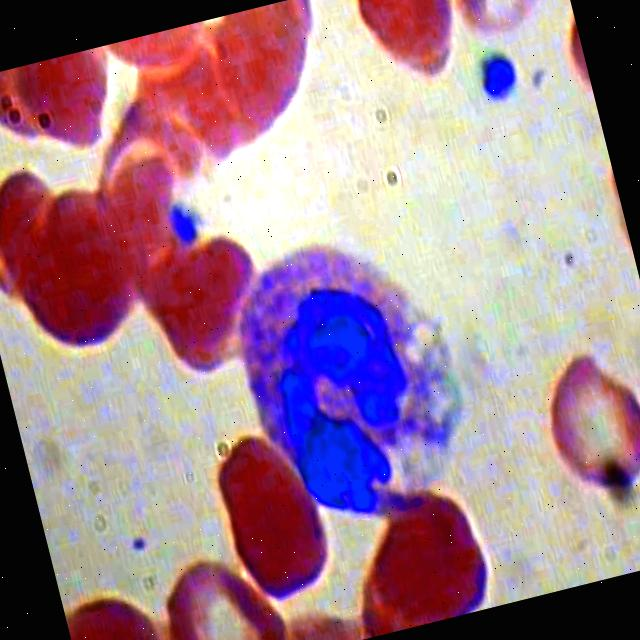Platelets: (468, 42, 532, 111), (162, 197, 208, 256)
RBC: (197, 421, 345, 612), (6, 200, 146, 361), (353, 486, 500, 634), (524, 331, 640, 517), (200, 0, 341, 136), (141, 533, 294, 640), (6, 44, 129, 171), (343, 0, 477, 101), (59, 573, 178, 640), (436, 0, 563, 47)
WBC: (212, 203, 514, 553)
